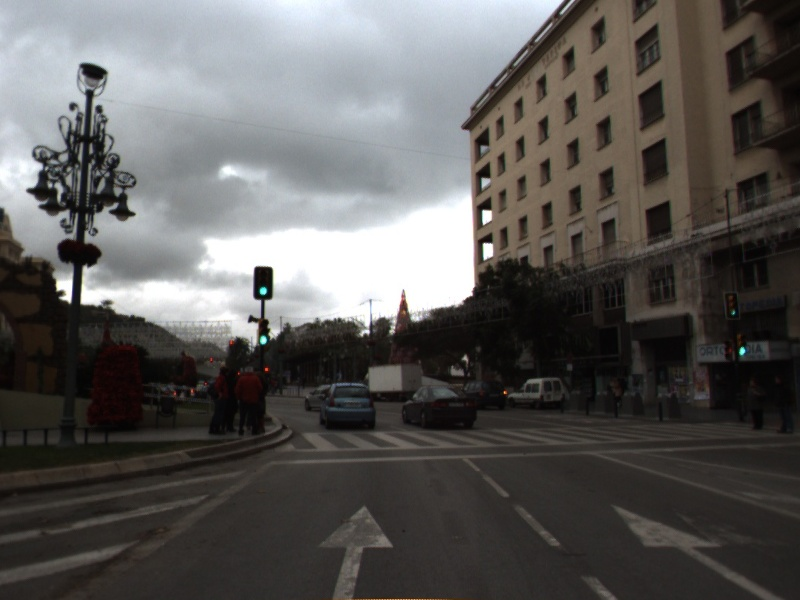STRAIGHT: (606, 500, 788, 600), (312, 500, 397, 600)
